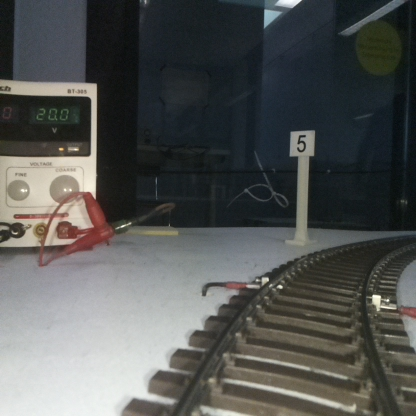white-info-5: (290, 131, 314, 243)
